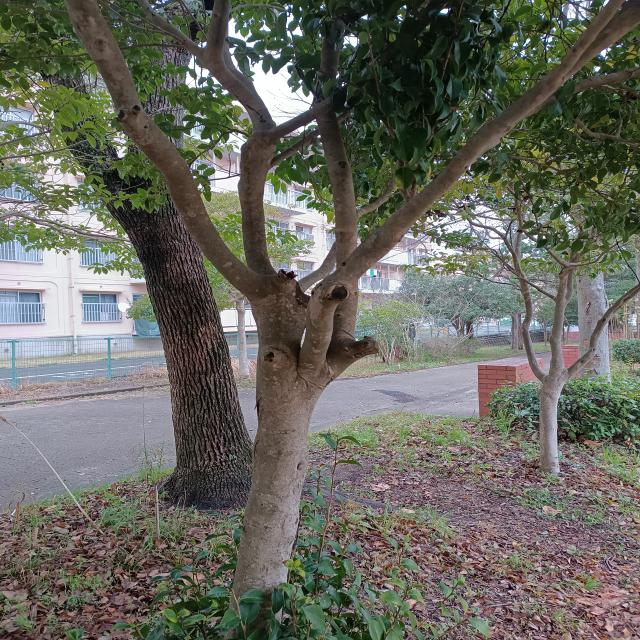Branch: (63, 3, 301, 369), (293, 76, 561, 383), (315, 109, 359, 266), (193, 47, 273, 131), (237, 130, 275, 270), (330, 282, 381, 381), (313, 22, 345, 104), (298, 241, 336, 293)
Twig: (548, 0, 626, 82), (565, 0, 640, 84), (136, 0, 199, 53), (269, 96, 333, 140), (558, 66, 640, 97), (100, 0, 167, 34), (269, 129, 320, 169), (106, 0, 165, 32), (224, 40, 256, 92), (207, 0, 231, 51), (120, 43, 182, 51)
